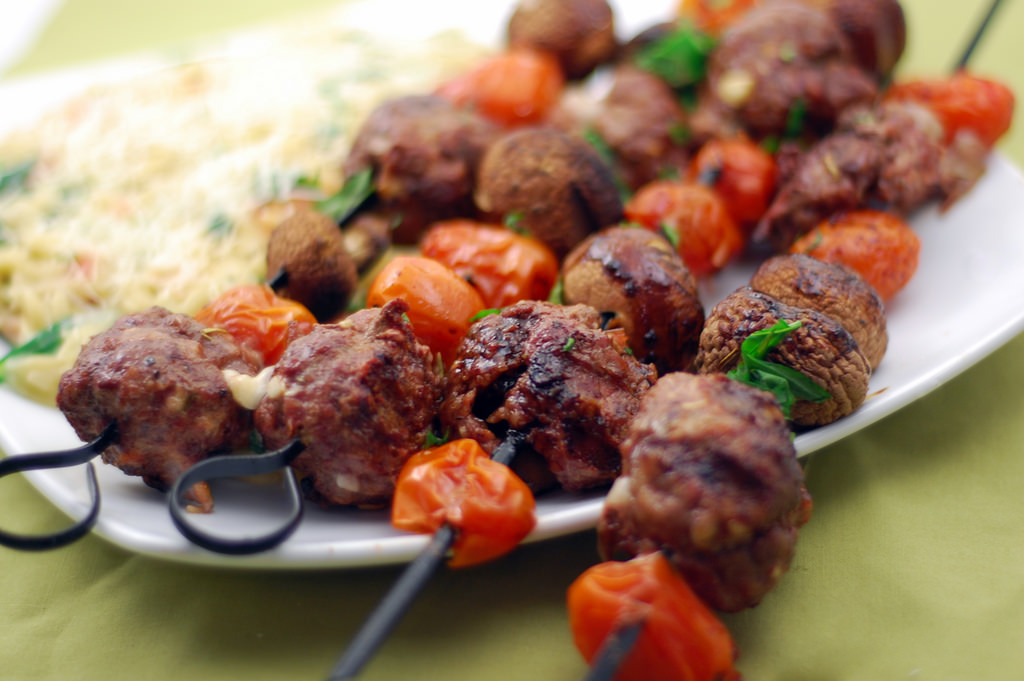meatballs: (691, 255, 817, 586), (355, 78, 599, 222), (468, 286, 640, 468)
